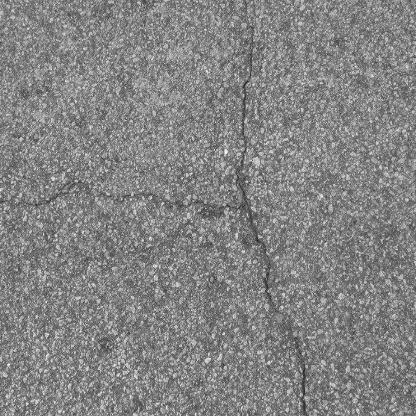Cracks: (234, 0, 315, 416), (0, 183, 234, 217)
